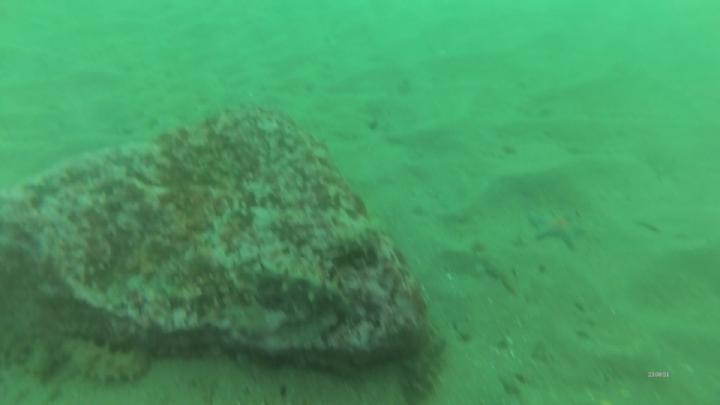holothurian: (25, 333, 154, 389), (254, 258, 352, 317), (407, 329, 450, 404), (323, 219, 389, 265)
starfish: (529, 207, 590, 252)
